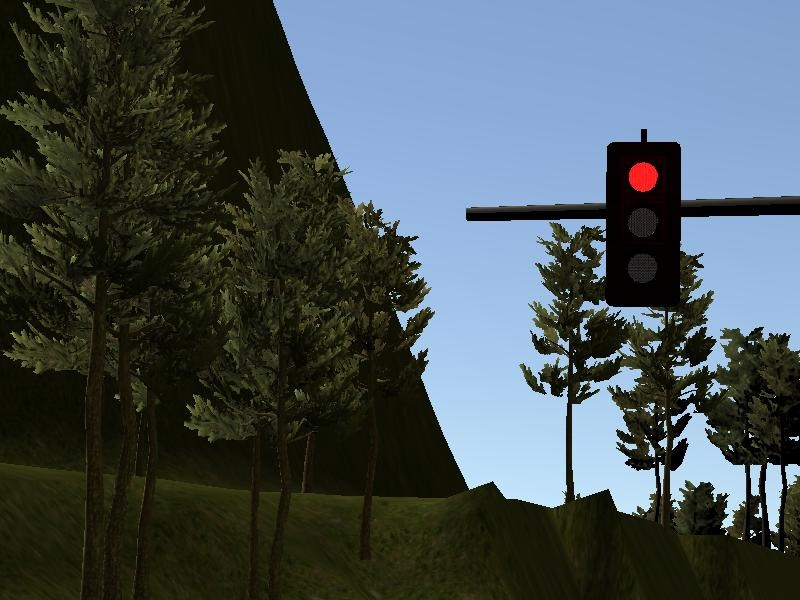RED: (604, 142, 680, 308)
